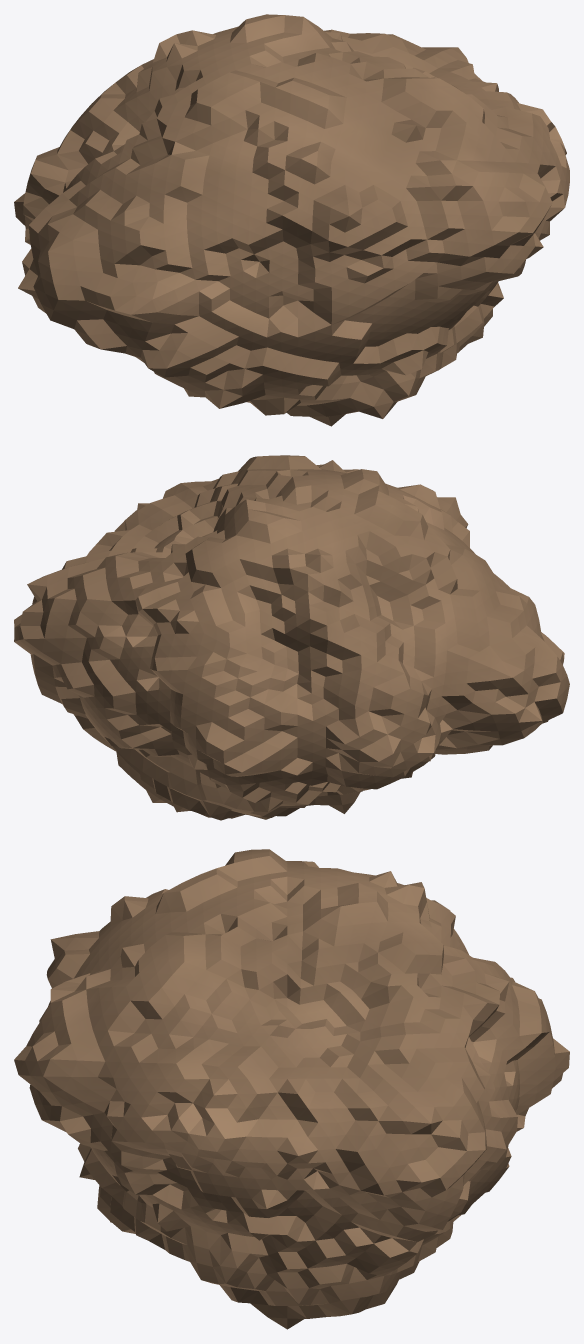
The model's file is umber-earth.glb.
3 views of the same model, one above another, from view 1: azimuth 30°, elevation 25°; view 2: azimuth 150°, elevation 25°; view 3: azimuth 270°, elevation 25° (orthographic). The views are drawn at different scales.
Visible parts, largest first — view 1: geometry_0; view 2: geometry_0; view 3: geometry_0.
Boxes of the visible parts, <box> form: geometry_0: <box>14,14,569,426</box>; geometry_0: <box>14,455,569,820</box>; geometry_0: <box>14,849,569,1329</box>.
Bounding box in the file's own units: 0.125 × 0.0835 × 0.1096.
